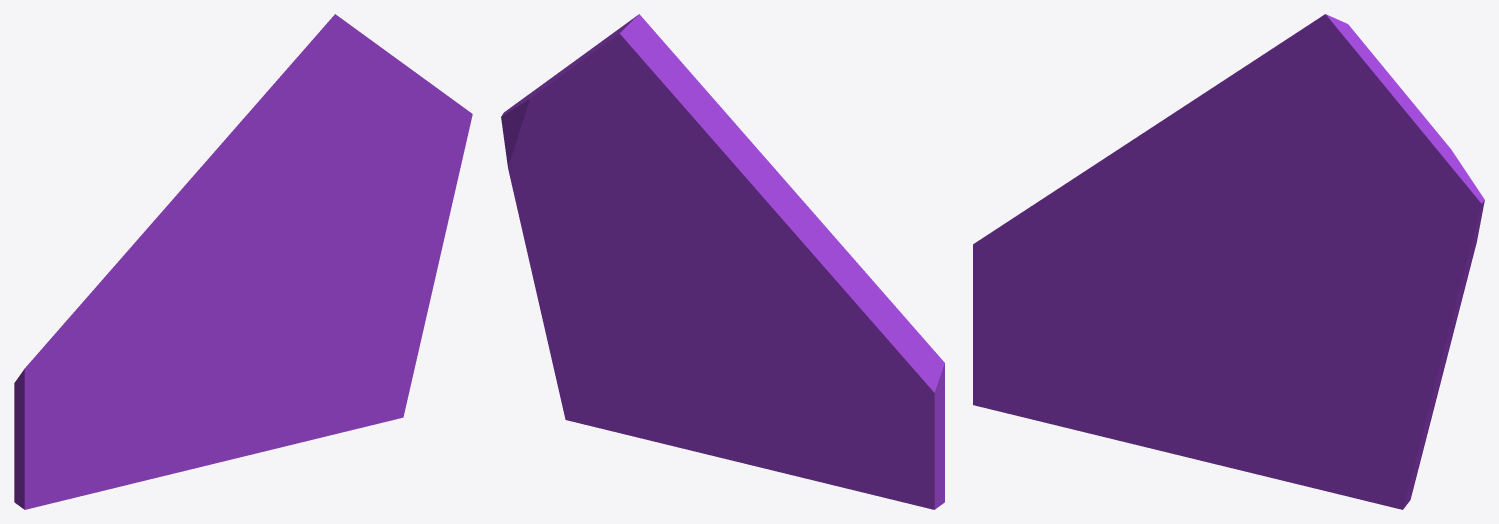
File: Window_8_6_chunks.fbx
3 renders of one model, left to right at view 1: azimuth 30°, elevation 25°; view 2: azimuth 150°, elevation 25°; view 3: azimuth 330°, elevation 25°, orthographic. The views are drawn at different scales.
Visible parts, largest first — view 1: Window_8_6_1, Window_8_6_5, Window_8_6_2, Window_8_6_4, Window_8_6_0, Window_8_6_6, Window_8_6_3; view 2: Window_8_6_2, Window_8_6_1, Window_8_6_5, Window_8_6_4, Window_8_6_3, Window_8_6_6; view 3: Window_8_6_1, Window_8_6_5, Window_8_6_2, Window_8_6_4, Window_8_6_0, Window_8_6_6, Window_8_6_3.
Part boxes in pixels (box(x1,y1,x2,y2)): Window_8_6_1: box(292, 14, 472, 344); Window_8_6_5: box(14, 338, 243, 509); Window_8_6_2: box(14, 102, 258, 416); Window_8_6_4: box(222, 326, 419, 461); Window_8_6_0: box(221, 48, 305, 294); Window_8_6_6: box(151, 265, 293, 376); Window_8_6_3: box(268, 266, 390, 357); Window_8_6_2: box(659, 62, 944, 425); Window_8_6_1: box(501, 14, 675, 346); Window_8_6_5: box(710, 332, 944, 509); Window_8_6_4: box(549, 342, 730, 459); Window_8_6_3: box(556, 268, 726, 381); Window_8_6_6: box(708, 288, 780, 355); Window_8_6_1: box(1277, 14, 1484, 435); Window_8_6_5: box(973, 279, 1221, 459); Window_8_6_2: box(973, 71, 1238, 296); Window_8_6_4: box(1197, 367, 1429, 509); Window_8_6_0: box(1196, 36, 1292, 275); Window_8_6_6: box(1117, 270, 1277, 375); Window_8_6_3: box(1249, 277, 1388, 399).
Bounding box in the file's own units: 664 × 595 × 27.2.
